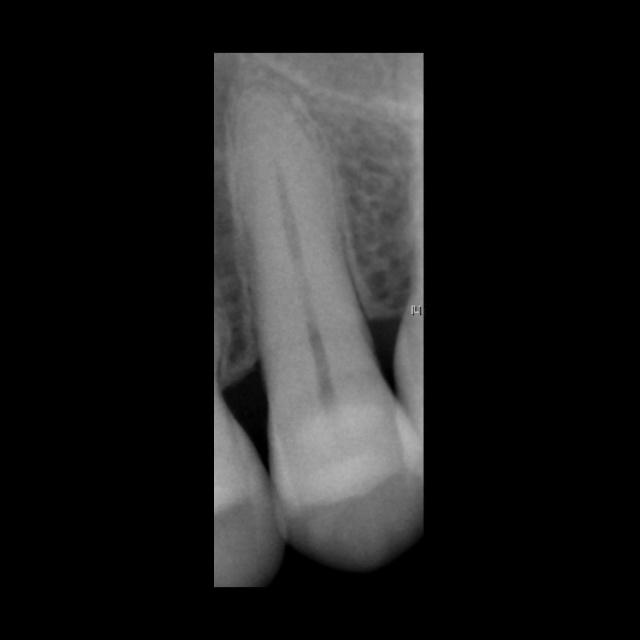tooth: (238, 106, 426, 569)
